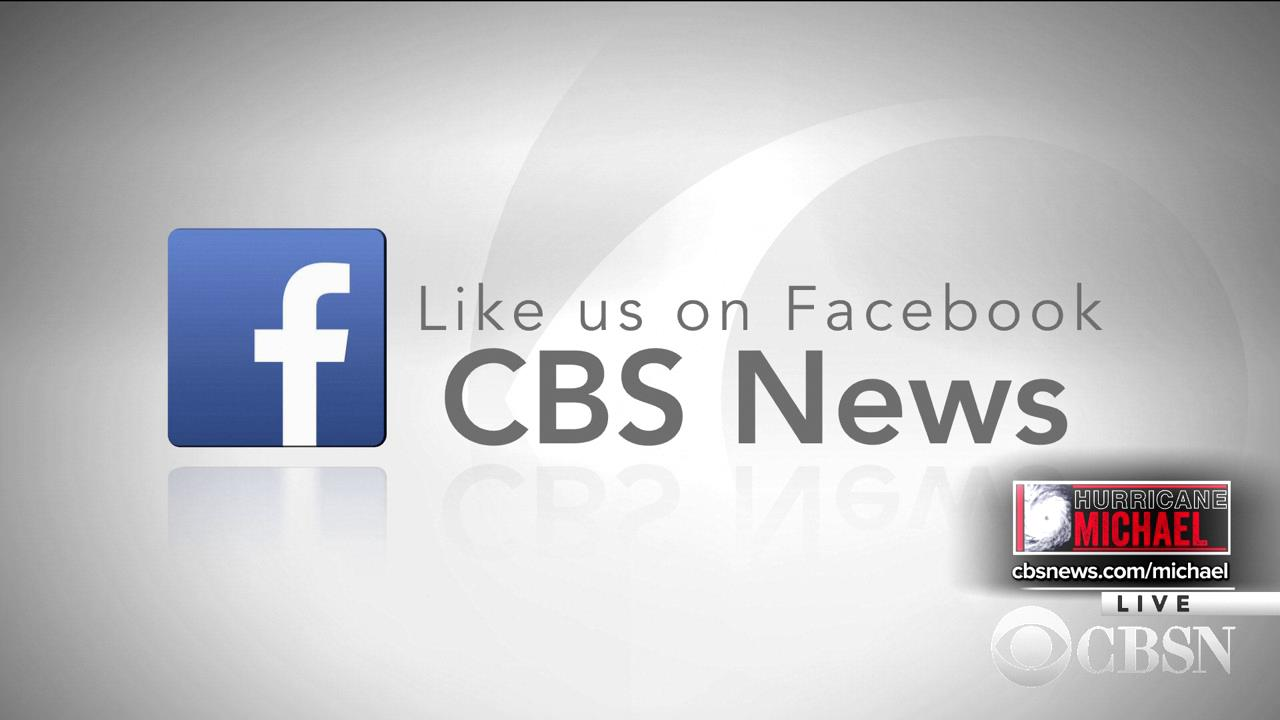CBS News: (444, 342, 1072, 447)
CBSN: (1073, 622, 1240, 678)
HURRICANE: (1073, 486, 1227, 512)
LIVE: (1115, 591, 1192, 614)
Like us on Facebook: (415, 279, 1108, 334)
MICHAEL: (1071, 509, 1209, 549)
cbsnews.com/michael: (1011, 561, 1229, 582)
f: (250, 256, 351, 446)
